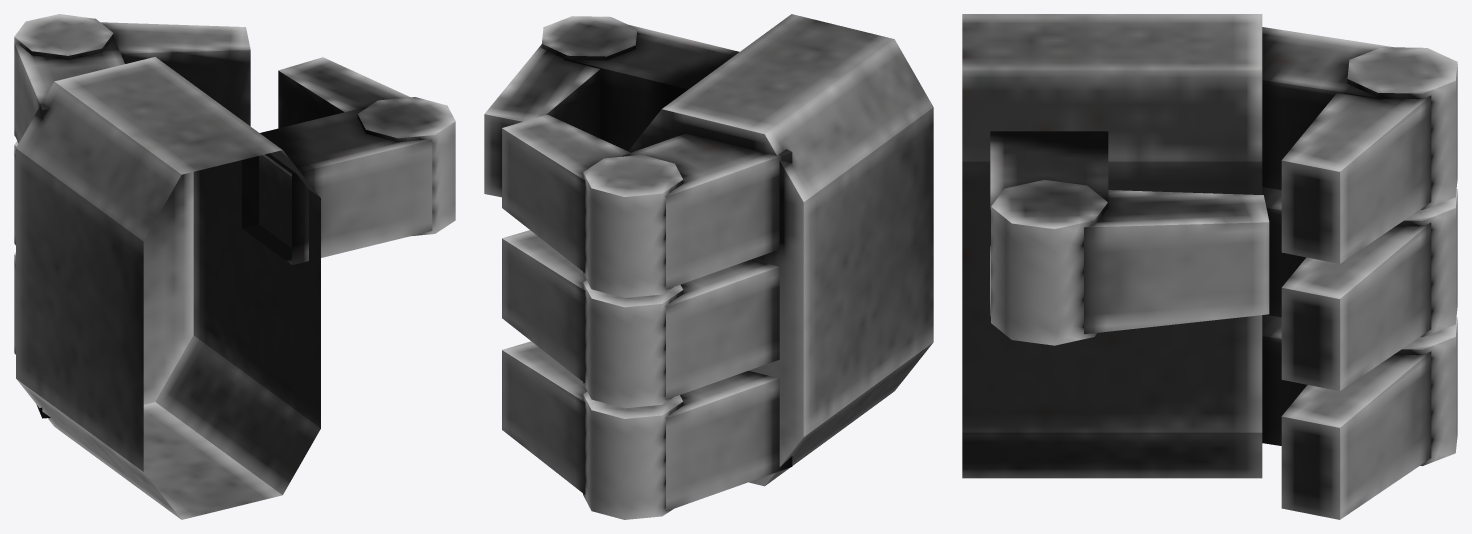
File: hand.FBX
3 renders of one model, left to right at view 1: azimuth 30°, elevation 25°; view 2: azimuth 150°, elevation 25°; view 3: azimuth 270°, elevation 25°, orthographic. The views are drawn at different scales.
Parts seen in each view (by area): view 1: handl; view 2: handl; view 3: handl.
Part boxes in pixels (x1=…): handl: x1=14, y1=14, x2=455, y2=519; handl: x1=484, y1=14, x2=933, y2=519; handl: x1=962, y1=14, x2=1457, y2=519.
Bounding box in the file's own units: 4.05 × 3.89 × 4.3.
Materials: 1 (1 with a texture image).
